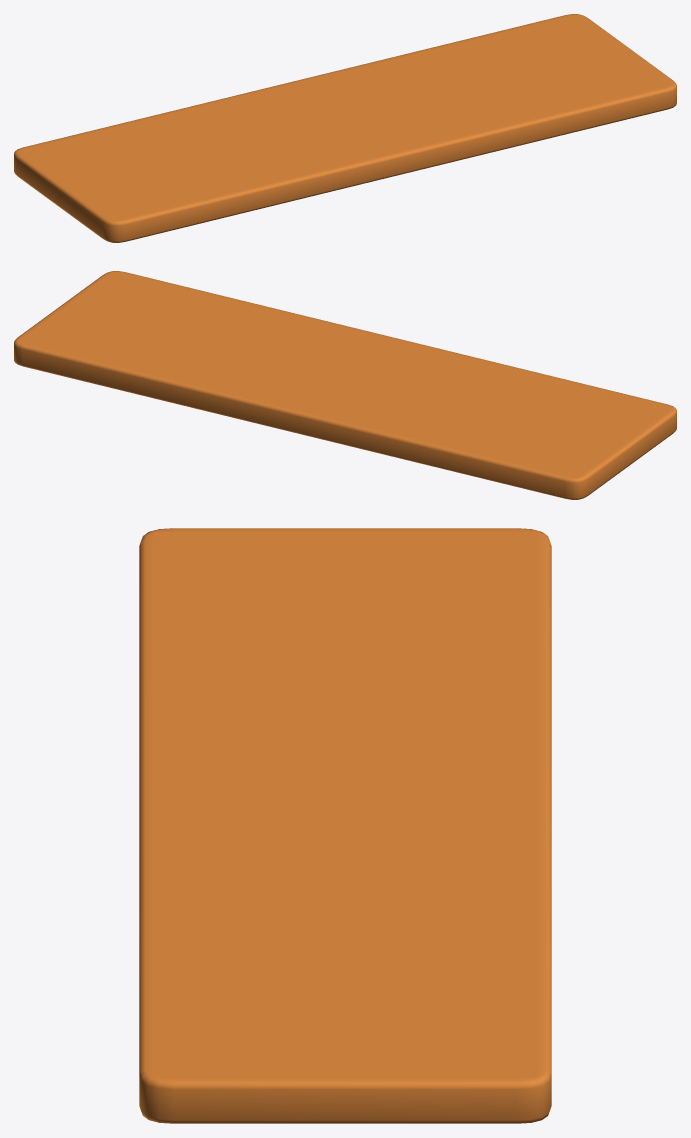
Rendered from Shelf.fbx.
The picture shows the model from 3 angles, top to bottom: view 1: azimuth 30°, elevation 25°; view 2: azimuth 150°, elevation 25°; view 3: azimuth 270°, elevation 25°; orthographic projection. The views are drawn at different scales.
Visible parts, largest first — view 1: Shelf; view 2: Shelf; view 3: Shelf.
Boxes of the visible parts, x1,y1,x2,y2 form: Shelf: (14,14,676,242); Shelf: (14,271,676,499); Shelf: (139,528,551,1123).
Bounding box in the file's own units: 320 × 11.18 × 100.
